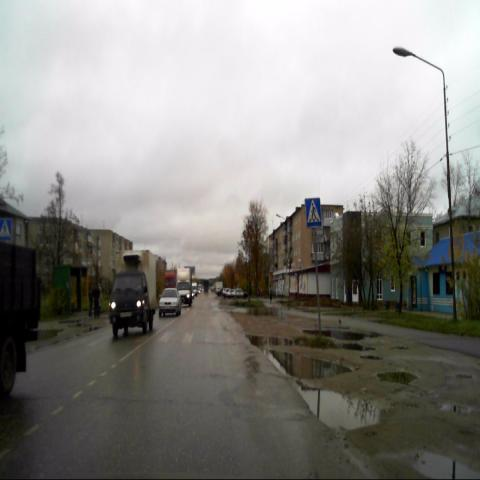5_19_1: (304, 197, 322, 228)
